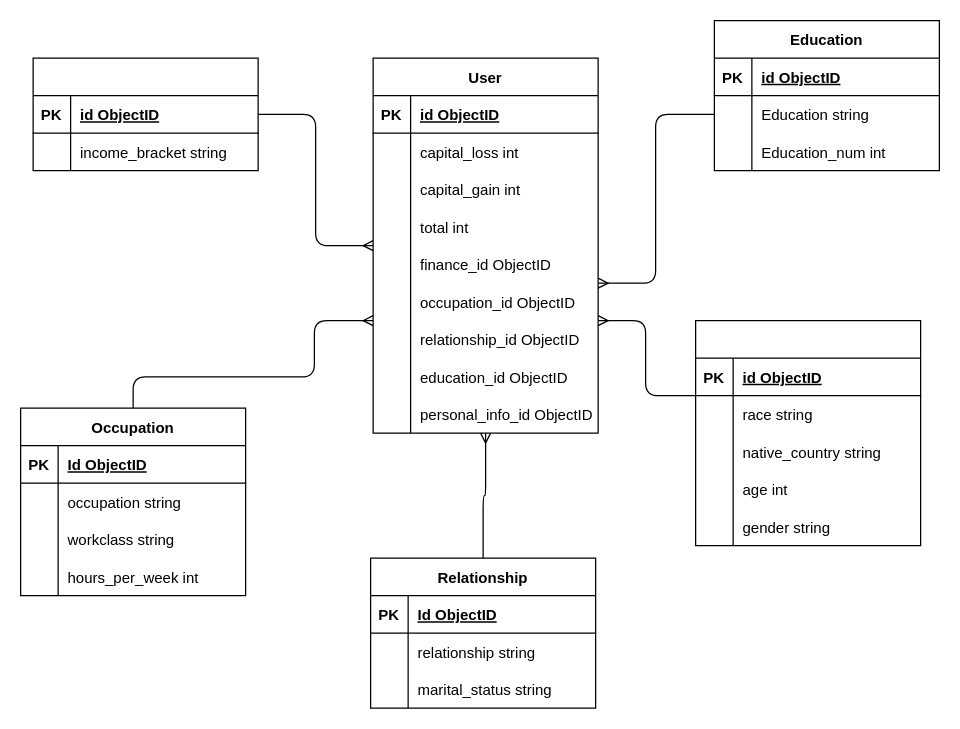
This 960x729 diagram has some shape labels left out. Each missing label, with the box of its shape:
Finance: (32, 57, 258, 171)
personal_info: (694, 319, 921, 546)
